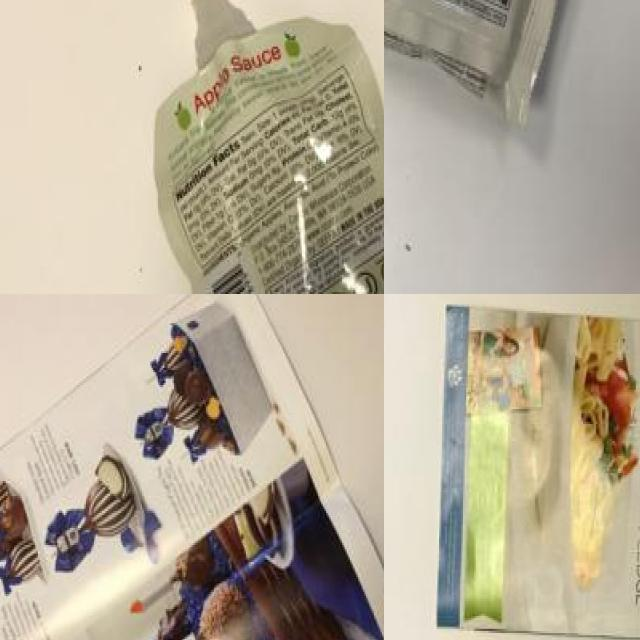paper: (0, 294, 384, 640), (443, 295, 640, 640)
trash: (134, 0, 384, 294), (384, 0, 594, 133)
